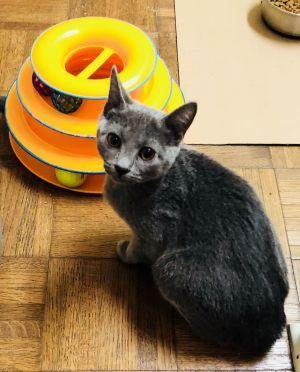rblue: (89, 69, 201, 190)
